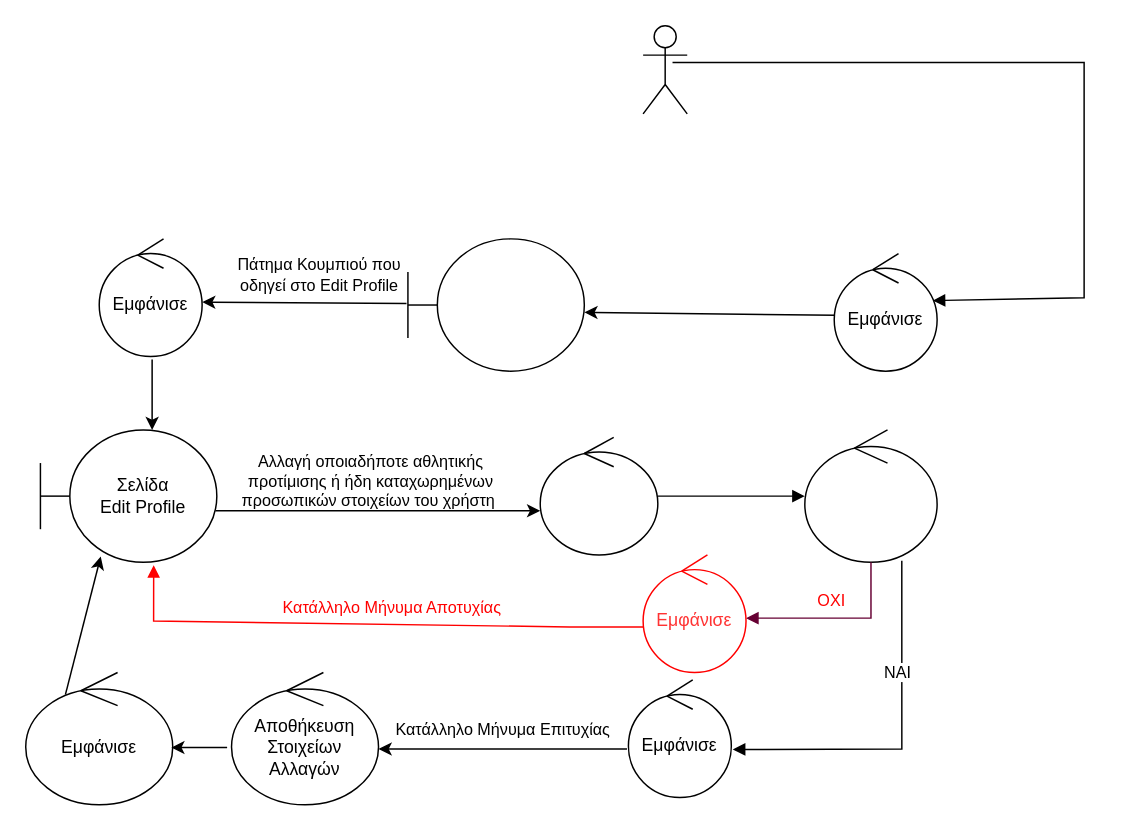
This 1122x831 diagram has some shape labels left out. The shapes that lost their labels are listed below. From the top down, each one's centre as x and y in pixels, then its label:
At point 664,69: "Παίκτης".
At point 495,304: "Σελίδα Home".
At point 598,495: "Επεξεργασία αιτήματος".
At point 870,495: "Τηρεί τις προυποθέσεις;".
